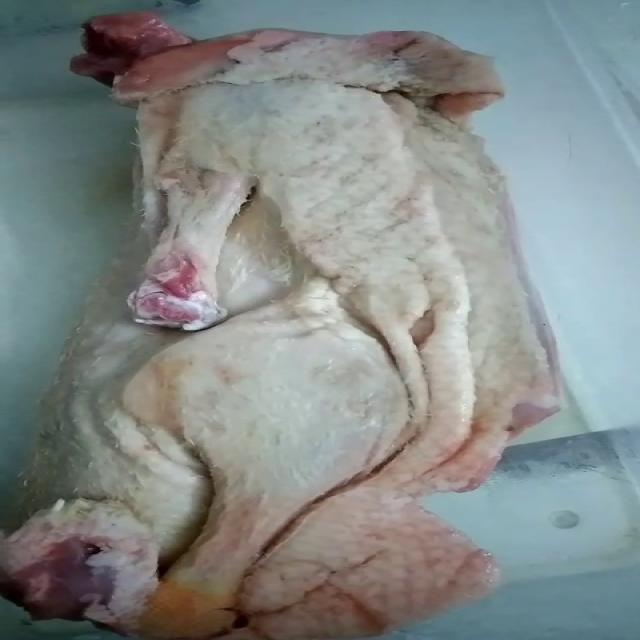chicken: (1, 9, 565, 638)
